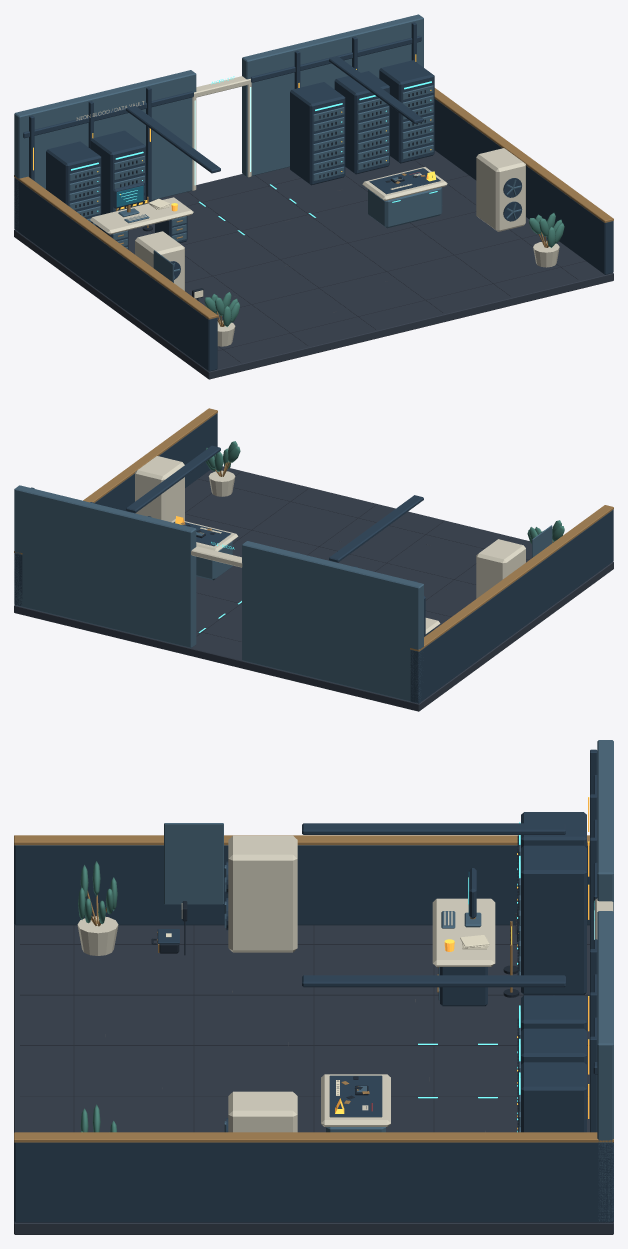
The model's file is datacenter.glb.
The picture shows the model from 3 angles, top to bottom: view 1: azimuth 30°, elevation 25°; view 2: azimuth 150°, elevation 25°; view 3: azimuth 270°, elevation 25°; orthographic projection. The views are drawn at different scales.
Visible parts, largest first — view 1: datacenter_architecture; view 2: datacenter_architecture; view 3: datacenter_architecture.
Part boxes in pixels (bbox=[...]): datacenter_architecture: bbox=[14, 14, 613, 379]; datacenter_architecture: bbox=[14, 408, 613, 711]; datacenter_architecture: bbox=[14, 740, 613, 1234].
Size of the model in its own units: 12 by 3.52 by 10.
